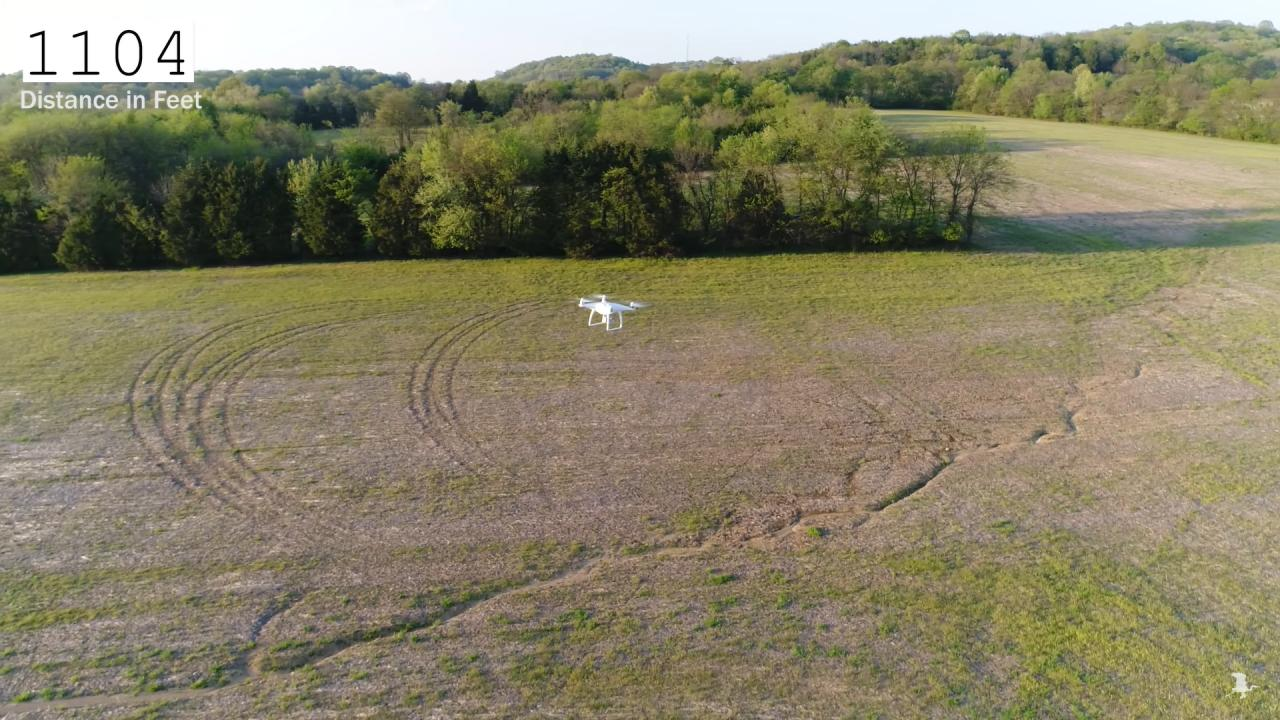Drone: (565, 288, 660, 342)
